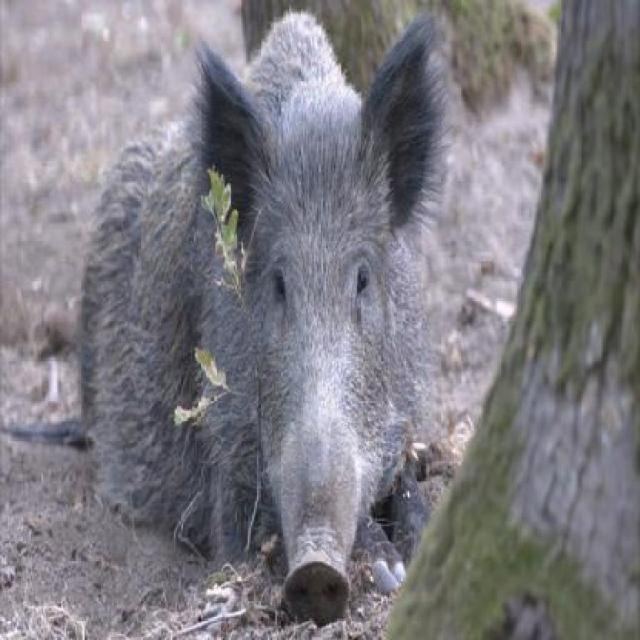wildboar: (0, 9, 449, 634)
